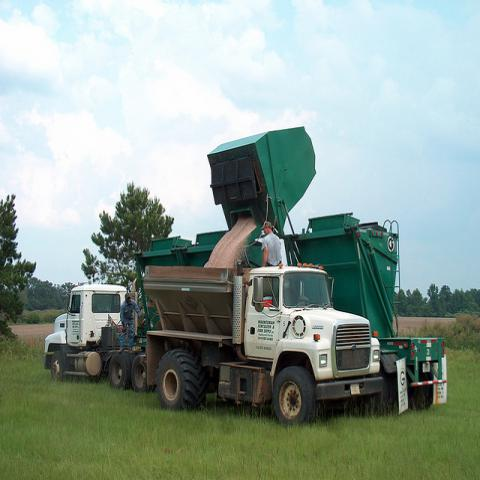truck: (141, 265, 384, 424), (43, 284, 146, 392)
